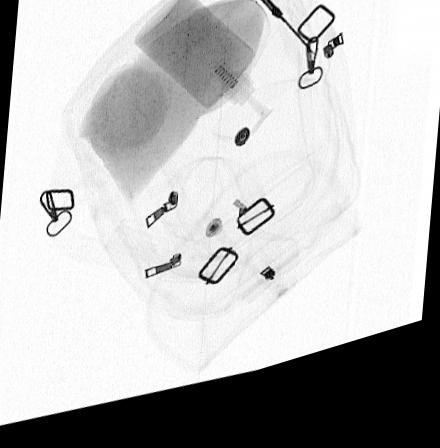Knife: (247, 0, 315, 74)
